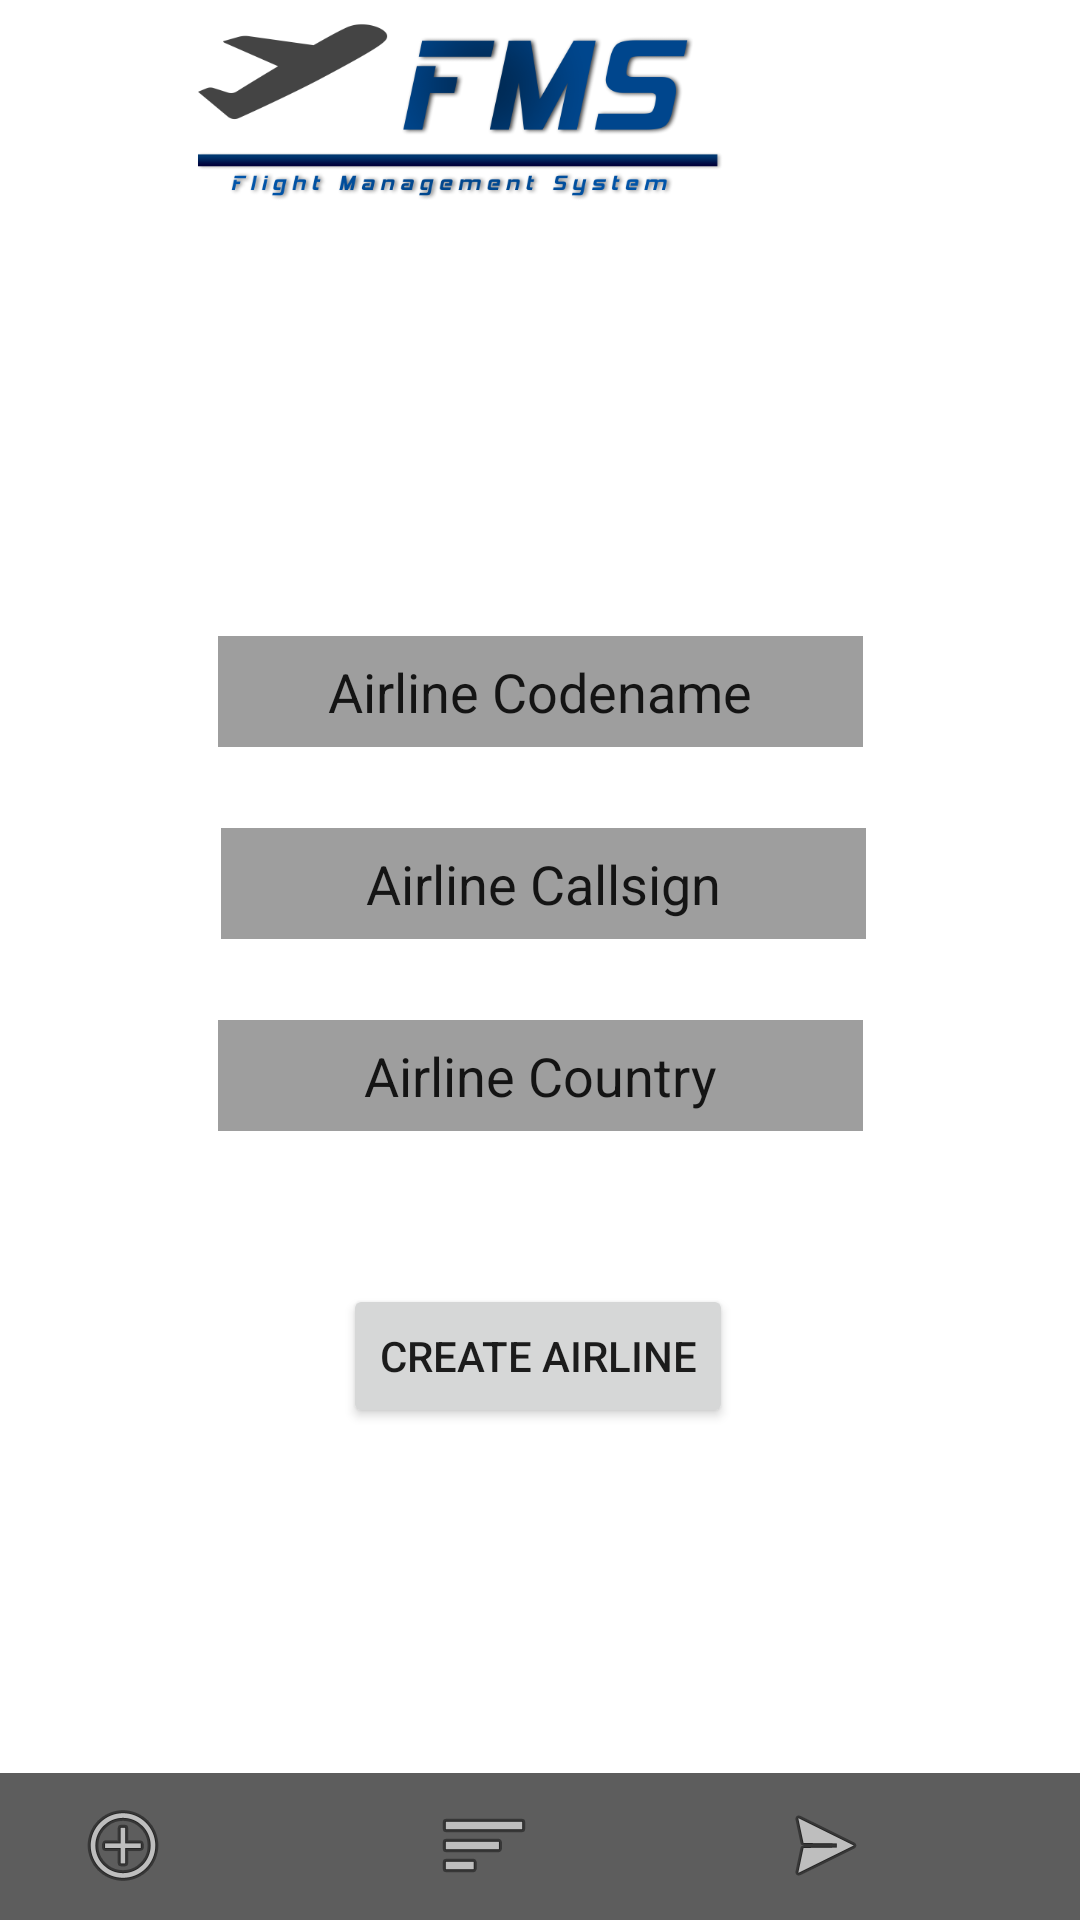

Icon click points for this 1080*1920 phone screenshot, format (x=x, y=y):
add: (x=123, y=1845)
send: (x=826, y=1845)
sort by size: (x=484, y=1845)
